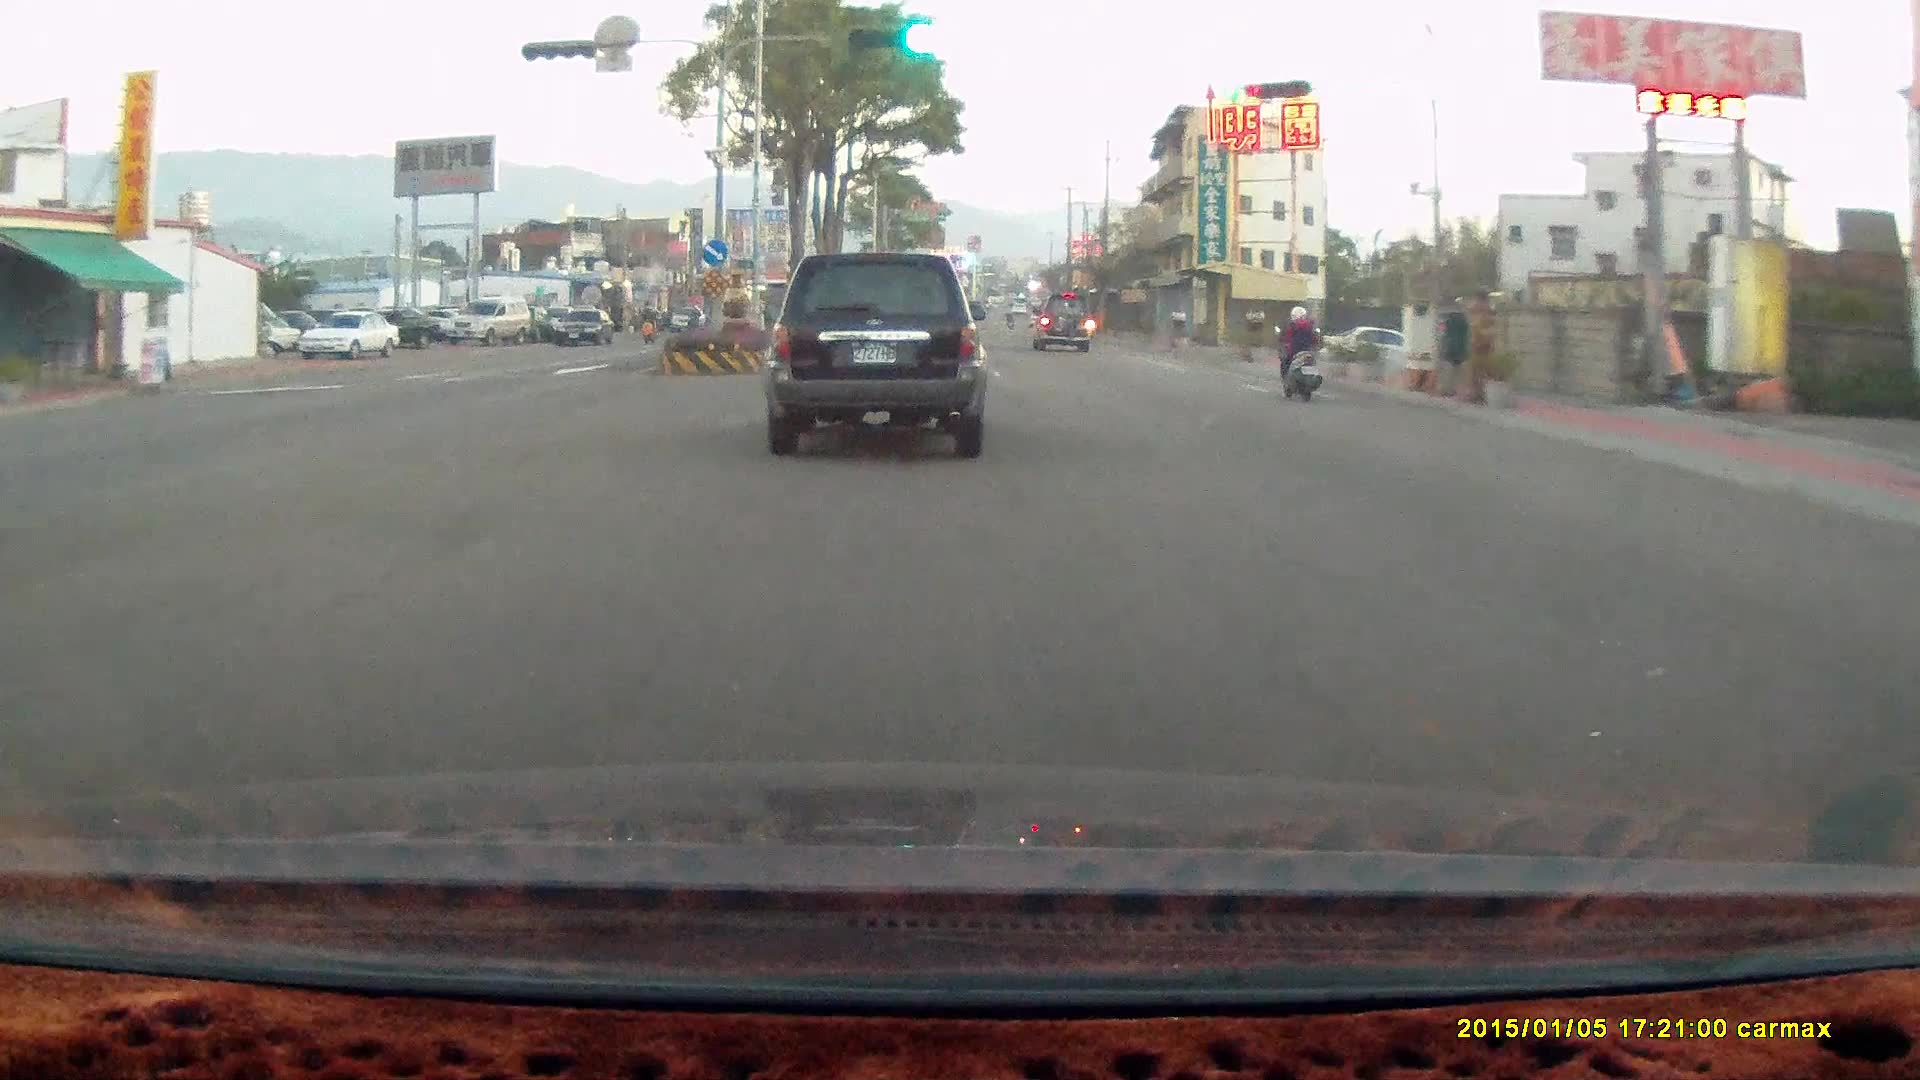rider: (1264, 294, 1335, 408), (1270, 301, 1320, 400)
vehicle: (772, 254, 999, 464), (765, 250, 988, 456), (1320, 324, 1427, 375), (298, 309, 400, 360), (303, 315, 405, 367), (442, 293, 532, 344), (444, 295, 534, 346), (1034, 294, 1094, 359), (1028, 293, 1091, 352), (353, 308, 438, 349), (555, 308, 616, 347)
